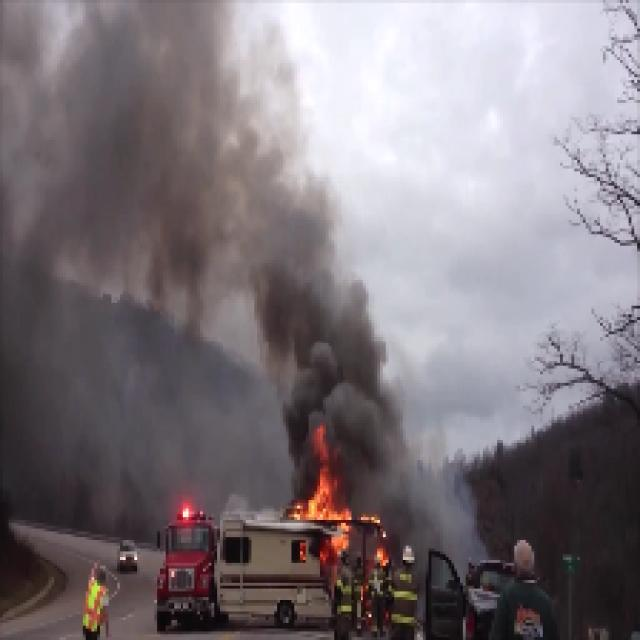fire: (300, 482, 343, 523)
smoke: (70, 48, 230, 236), (275, 286, 383, 460)
